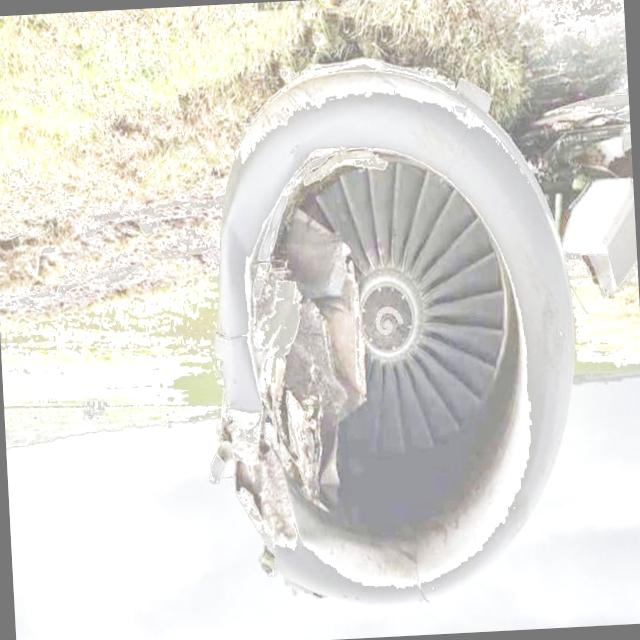dent: (213, 162, 259, 324), (224, 386, 264, 436)
